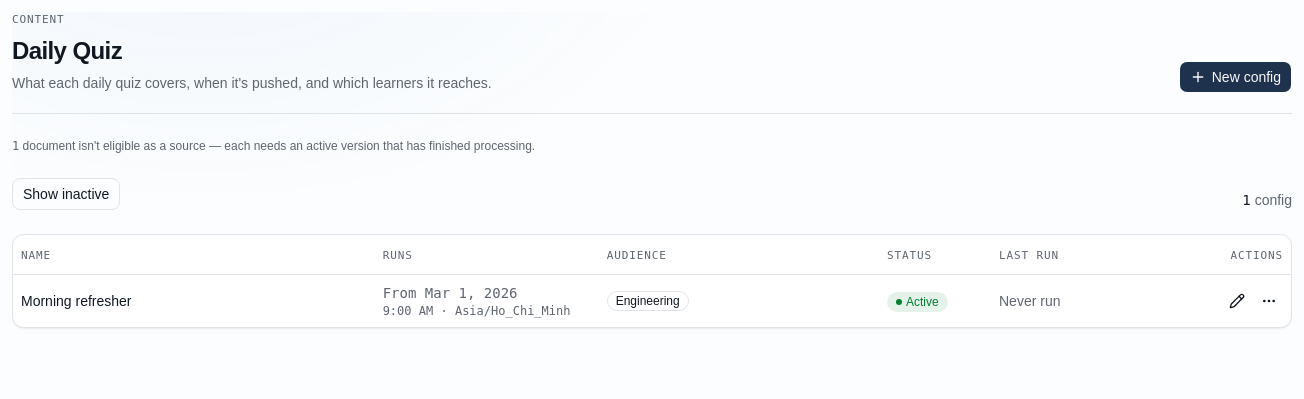
Test: DailyQuizConfigsPage › lists configs with their schedule, timezone and audience tags
Expected: the text "Morning refresher" is shown, [21, 293, 132, 309]
Expected: the text "Engineering" is shown, [607, 291, 689, 311]
Click the button "Show inactive".
click(66, 194)  # box [12, 178, 120, 210]
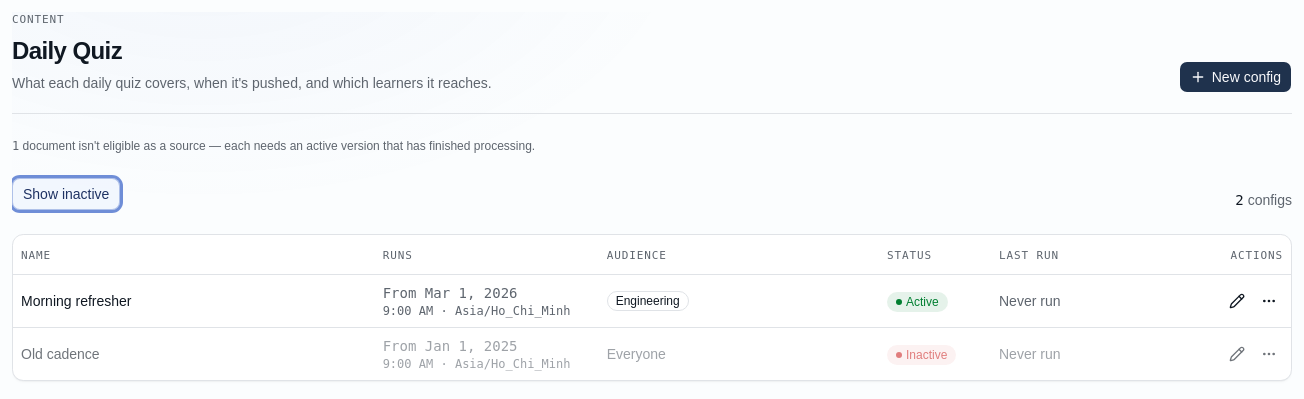
Expected: the text "Old cadence" is shown, [21, 346, 100, 362]
